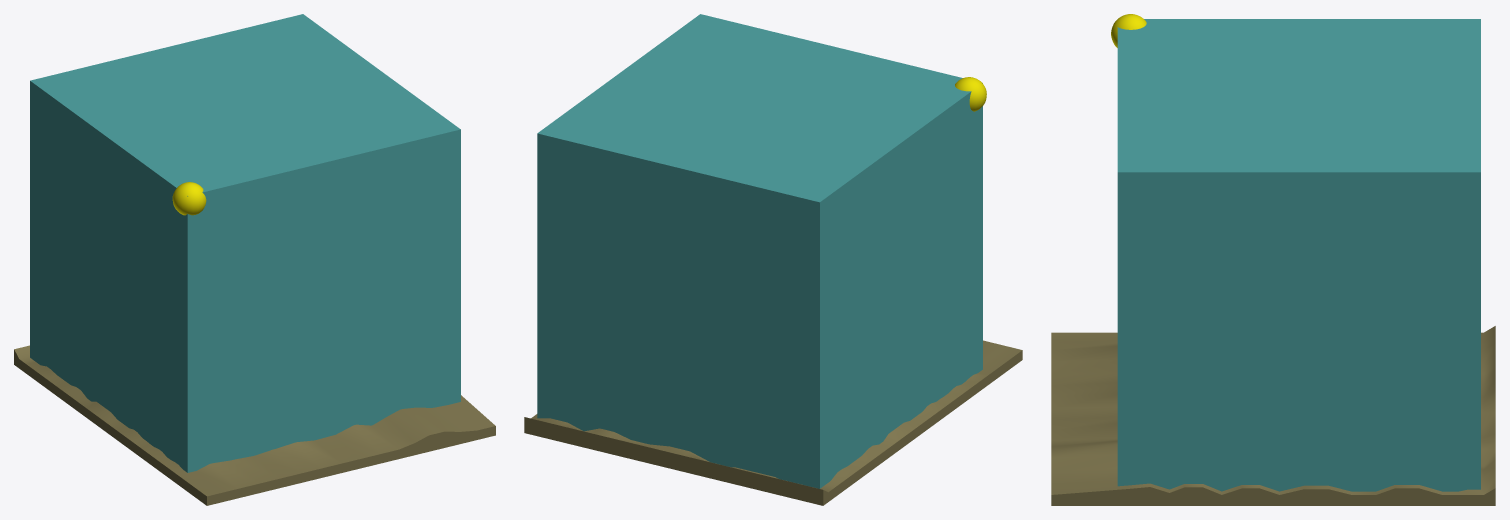
File: Enviroment3.fbx
3 renders of one model, left to right at view 1: azimuth 30°, elevation 25°; view 2: azimuth 150°, elevation 25°; view 3: azimuth 270°, elevation 25°, orthographic. The views are drawn at different scales.
Visible parts, largest first — view 1: pasted__pCube1, pasted__pCube2, Enviroment_Desert; view 2: pasted__pCube1, pasted__pCube2, Enviroment_Desert; view 3: pasted__pCube1, pasted__pCube2, Enviroment_Desert.
Part boxes in pixels (bbox=[...]): pasted__pCube1: bbox=[30, 14, 460, 472]; pasted__pCube2: bbox=[14, 345, 495, 505]; Enviroment_Desert: bbox=[172, 182, 206, 215]; pasted__pCube1: bbox=[537, 14, 982, 488]; pasted__pCube2: bbox=[524, 340, 1022, 505]; Enviroment_Desert: bbox=[955, 77, 986, 111]; pasted__pCube1: bbox=[1117, 19, 1480, 491]; pasted__pCube2: bbox=[1051, 326, 1495, 505]; Enviroment_Desert: bbox=[1111, 14, 1146, 47].
Size of the model in its own units: 19.41 by 18.8 by 22.44.
